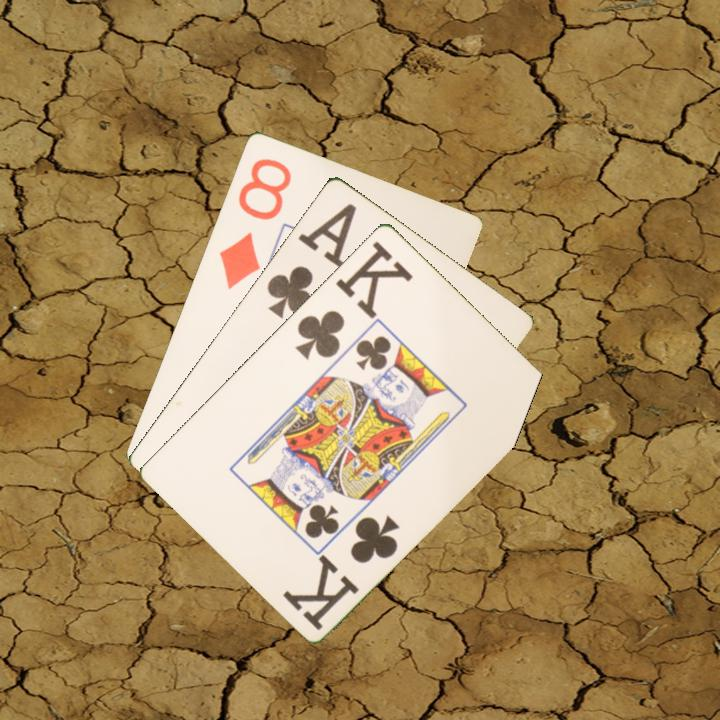8d: (215, 154, 294, 292)
Ac: (263, 198, 360, 321)
Kc: (291, 236, 415, 362), (280, 510, 402, 633)
